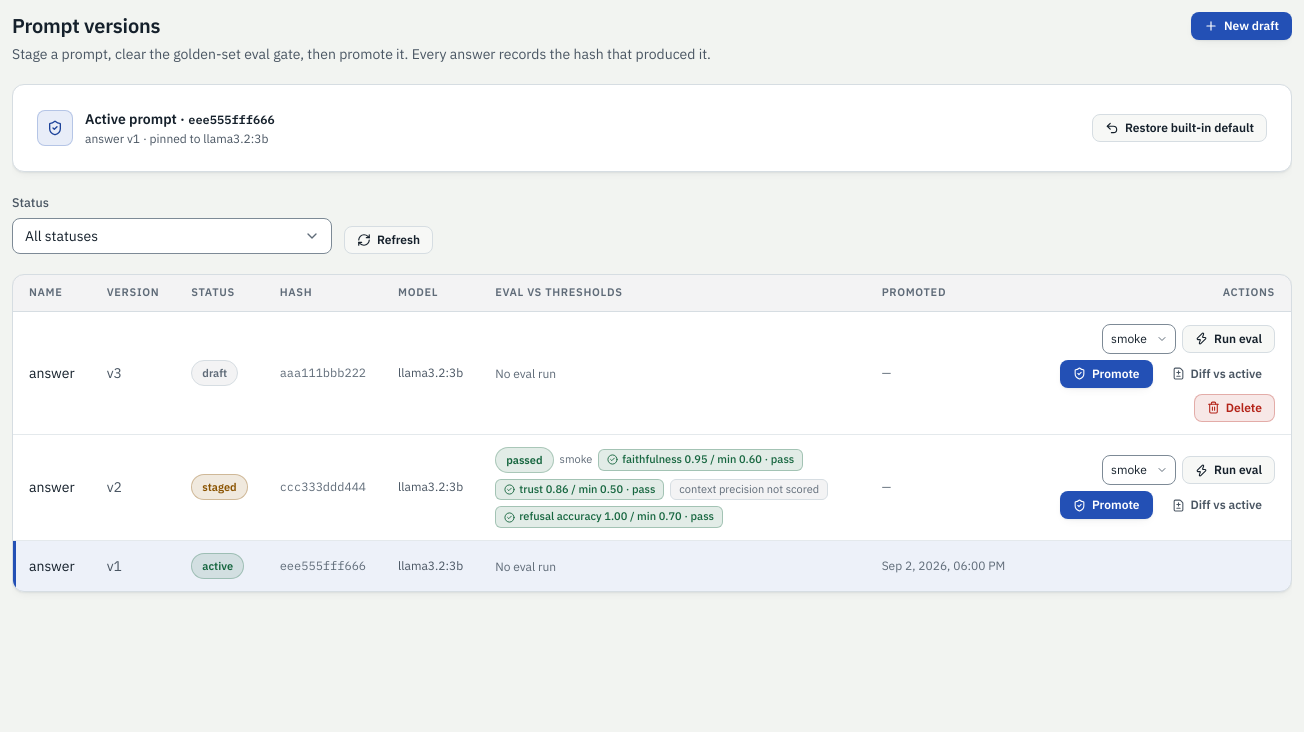
Test: AdminPromptsPage › queues a smoke eval for the selected row
Click the button with aria-label "Run eval for answer v3". click: (1229, 339)
box: [1182,325,1275,353]
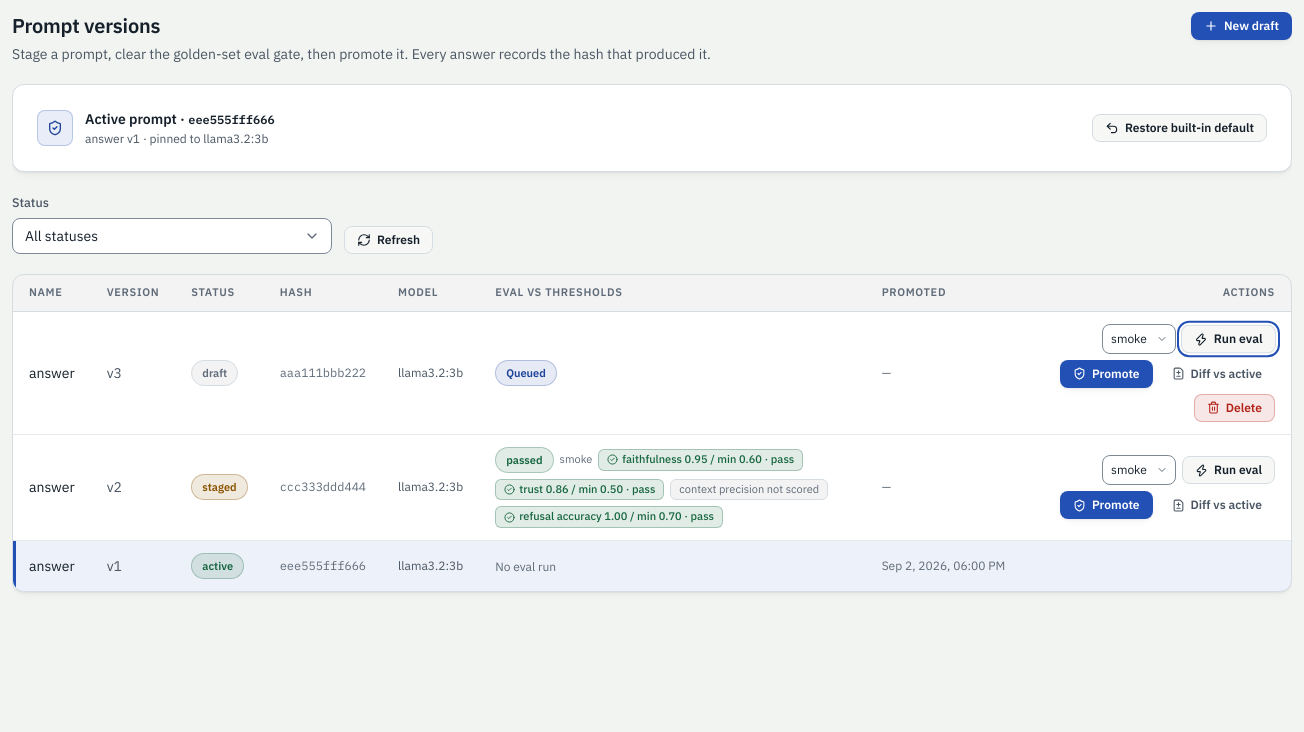
Check: the text "Queued" is shown, box [495,360,557,386]
